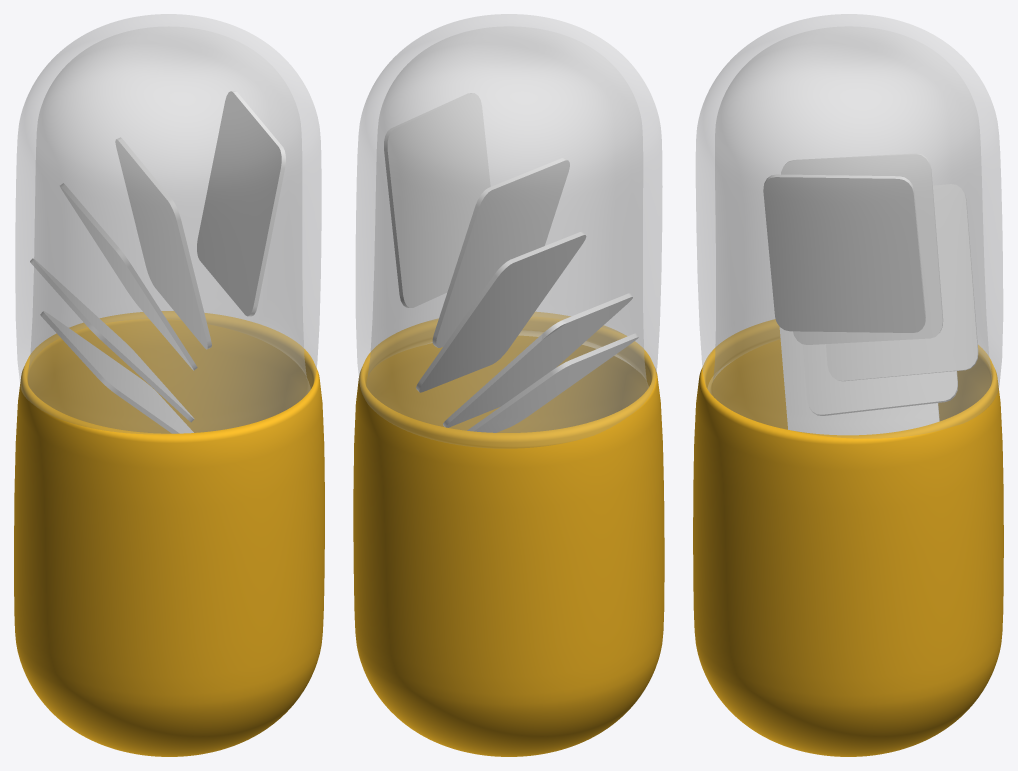
The model's file is first_capsule.glb.
The picture shows the model from 3 angles, left to right: view 1: azimuth 30°, elevation 25°; view 2: azimuth 150°, elevation 25°; view 3: azimuth 270°, elevation 25°; orthographic projection.
Parts seen in each view (by area): view 1: Cylinder, Cylinder.001, Plane.003; view 2: Cylinder.001, Cylinder, Plane.003; view 3: Cylinder.001, Cylinder, Plane.003.
Part boxes in pixels (<box>): Cylinder: <box>14,311,324,756</box>; Cylinder.001: <box>15,14,321,433</box>; Plane.003: <box>30,91,285,433</box>; Cylinder.001: <box>356,14,662,448</box>; Cylinder: <box>353,312,664,756</box>; Plane.003: <box>384,93,638,432</box>; Cylinder.001: <box>696,14,1002,438</box>; Cylinder: <box>693,319,1003,756</box>; Plane.003: <box>763,153,978,435</box>.
Size of the model in its own units: 0.1186 by 0.2914 by 0.1185.
